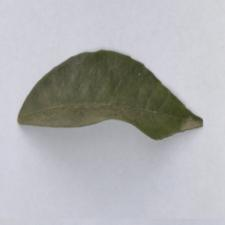Healthy: (24, 30, 194, 156)
